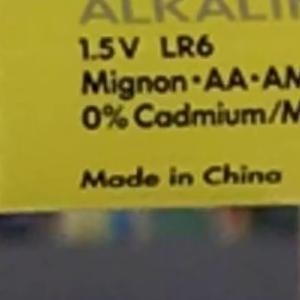keyword: (150, 24, 224, 68)
